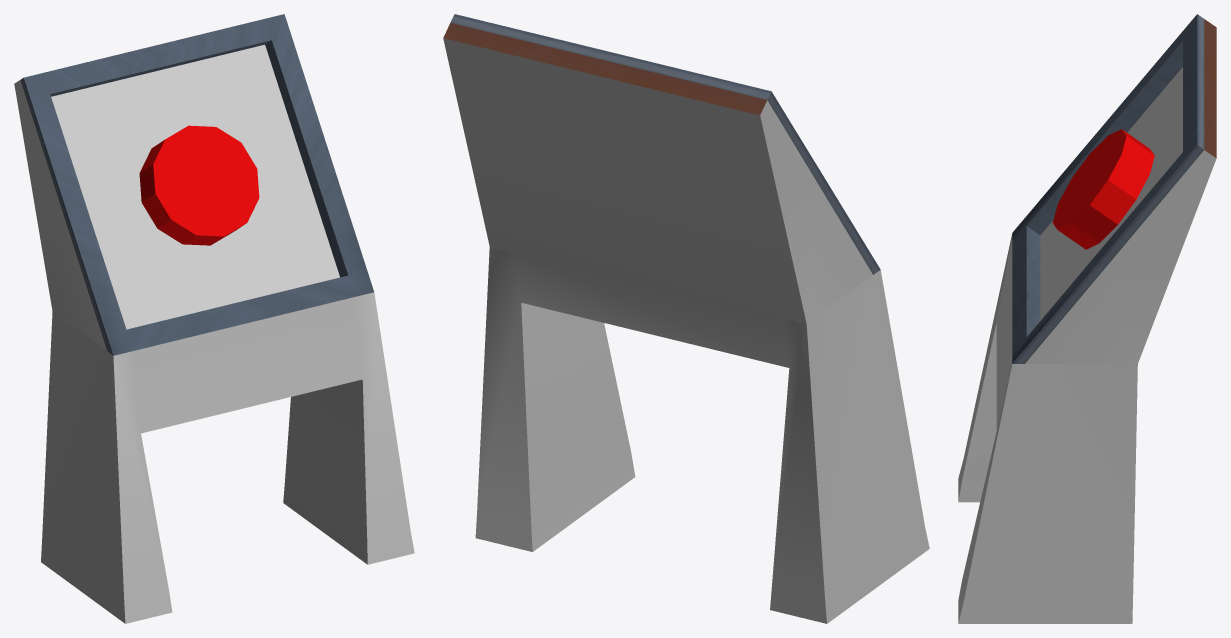
File: JengaButton_Art.fbx
3 renders of one model, left to right at view 1: azimuth 30°, elevation 25°; view 2: azimuth 150°, elevation 25°; view 3: azimuth 270°, elevation 25°, orthographic. The views are drawn at different scales.
Parts seen in each view (by area): view 1: Oktoberfest_EntranceBoard; view 2: Oktoberfest_EntranceBoard; view 3: Oktoberfest_EntranceBoard.
Part boxes in pixels (box(x1,y1,x2,y2)): Oktoberfest_EntranceBoard: box(14, 14, 414, 623); Oktoberfest_EntranceBoard: box(443, 14, 929, 623); Oktoberfest_EntranceBoard: box(958, 14, 1216, 623).
Size of the model in its own units: 119 by 180 by 89.37.
